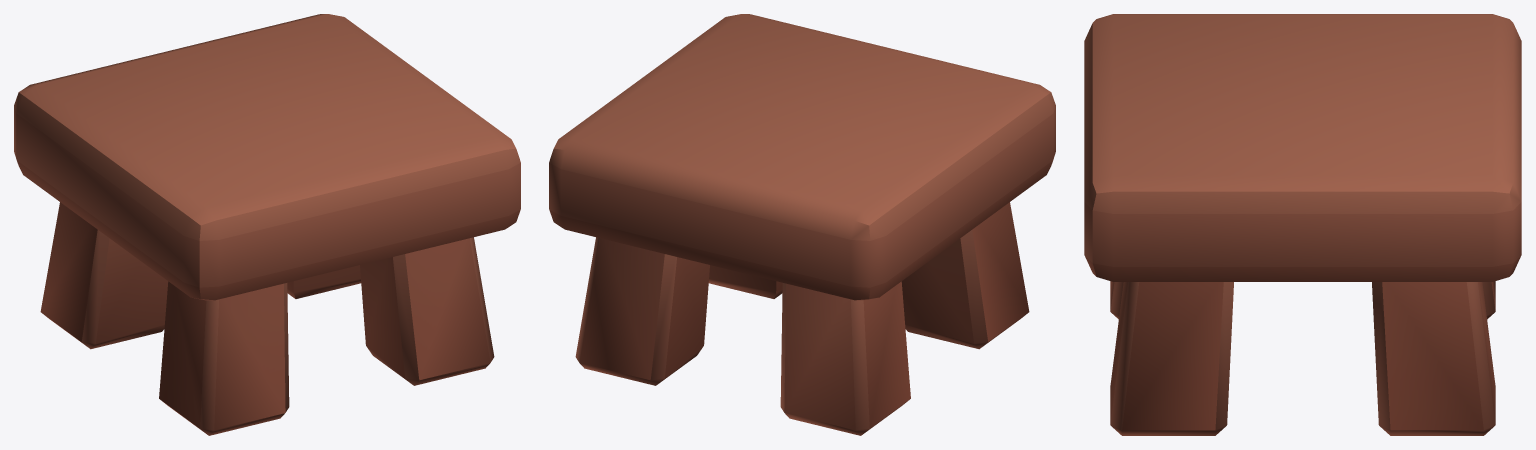
The model's file is chair_stool_wood.glb.
3 views of the same model, side by side, from view 1: azimuth 30°, elevation 25°; view 2: azimuth 150°, elevation 25°; view 3: azimuth 270°, elevation 25° (orthographic). The views are drawn at different scales.
Visible parts, largest first — view 1: chair_stool_wood; view 2: chair_stool_wood; view 3: chair_stool_wood.
Boxes of the visible parts, x1,y1,x2,y2 form: chair_stool_wood: (14, 14, 520, 435); chair_stool_wood: (549, 14, 1055, 435); chair_stool_wood: (1084, 14, 1521, 435).
Size of the model in its own units: 0.75 by 0.5 by 0.75.
1 material, 1 textured.
